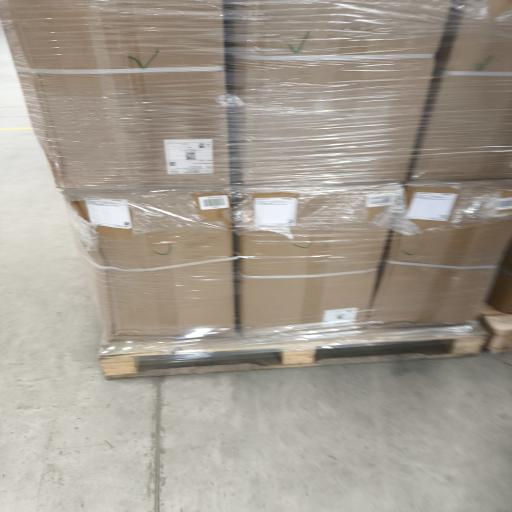pallet: (100, 329, 486, 378), (483, 305, 511, 353)
